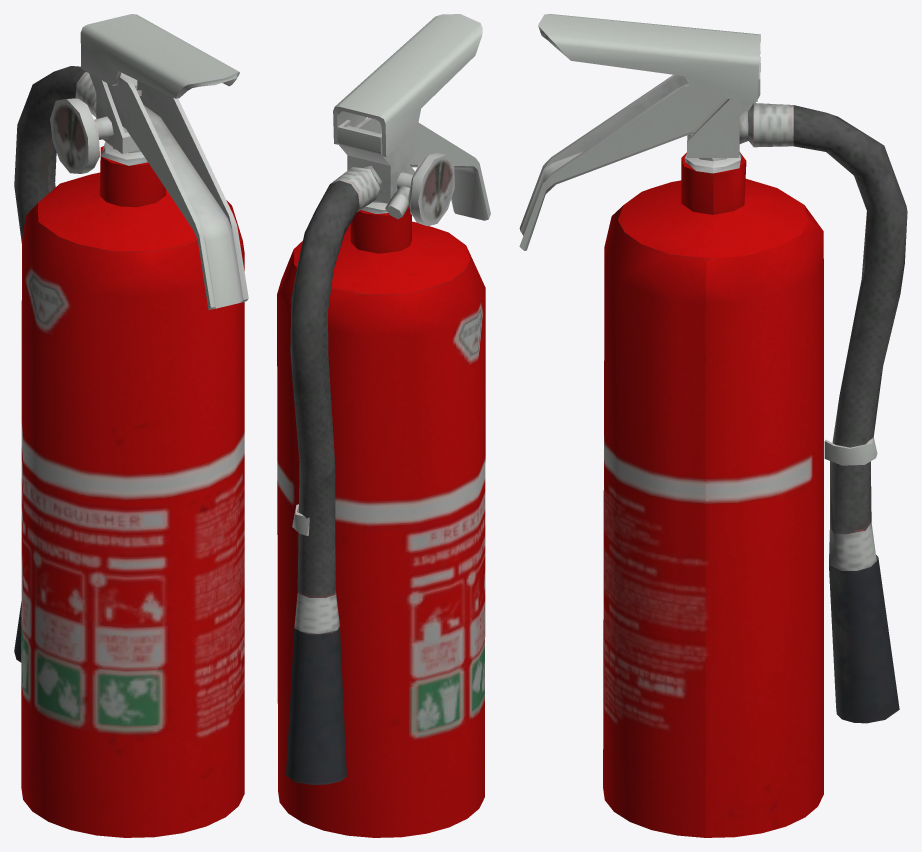
File: fireextinguisher_reference.001.fbx
The picture shows the model from 3 angles, left to right: view 1: azimuth 30°, elevation 25°; view 2: azimuth 150°, elevation 25°; view 3: azimuth 270°, elevation 25°; orthographic projection. The views are drawn at different scales.
Visible parts, largest first — view 1: fireextinguisher_reference.001; view 2: fireextinguisher_reference.001; view 3: fireextinguisher_reference.001.
Boxes of the visible parts, box(x1,y1,x2,y2) form: fireextinguisher_reference.001: box(14, 14, 248, 837); fireextinguisher_reference.001: box(277, 14, 490, 837); fireextinguisher_reference.001: box(519, 14, 907, 837).
Size of the model in its own units: 30.4 by 116 by 53.25.
